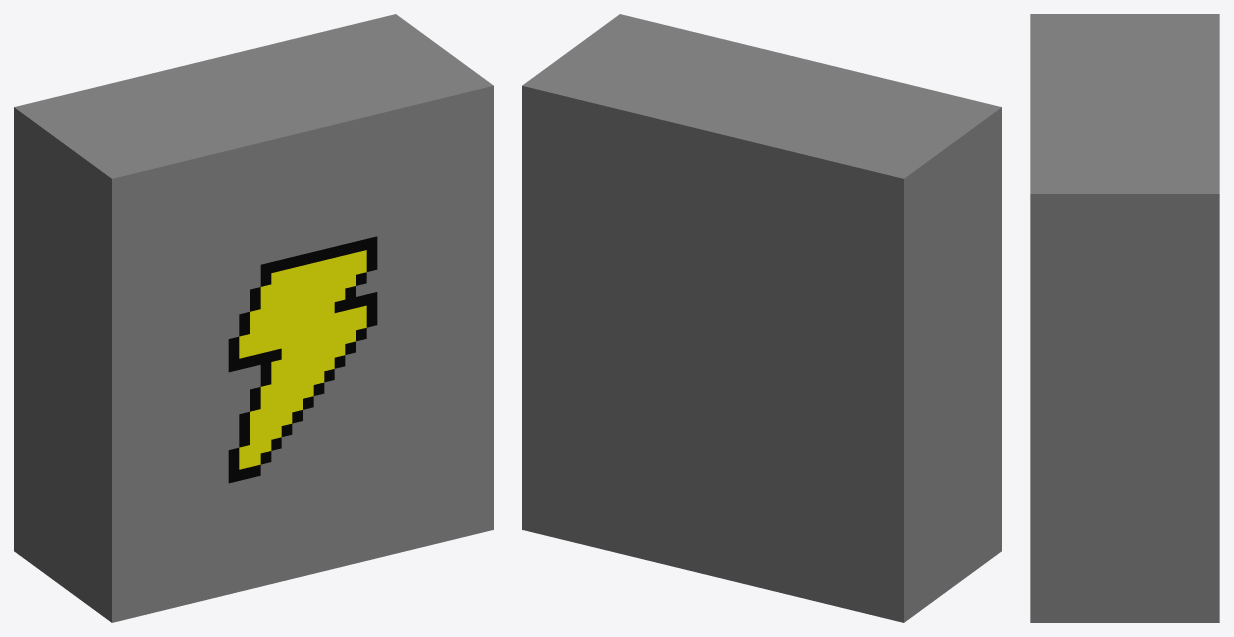
The model's file is fusebox.obj.
3 views of the same model, side by side, from view 1: azimuth 30°, elevation 25°; view 2: azimuth 150°, elevation 25°; view 3: azimuth 270°, elevation 25° (orthographic). The views are drawn at different scales.
Bounding box in the file's own units: 36 × 40 × 16.
Materials: 1 (1 with a texture image).
